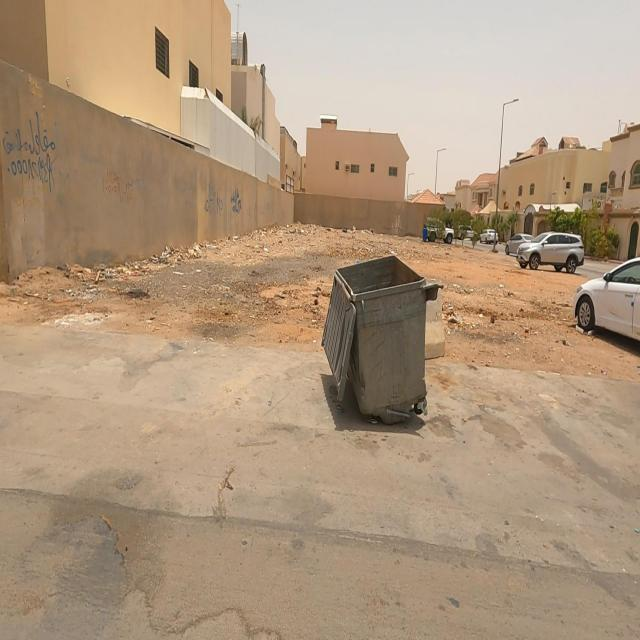debris: (0, 56, 102, 249), (60, 141, 183, 236), (63, 240, 175, 322), (174, 157, 246, 245), (216, 154, 268, 250), (134, 225, 202, 279)
